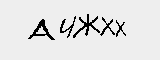З: (103, 19, 125, 44)
М: (34, 17, 57, 37)
Н: (125, 17, 148, 42), (14, 18, 32, 35)
Ю: (54, 18, 78, 42)
Ң: (78, 23, 102, 46)
